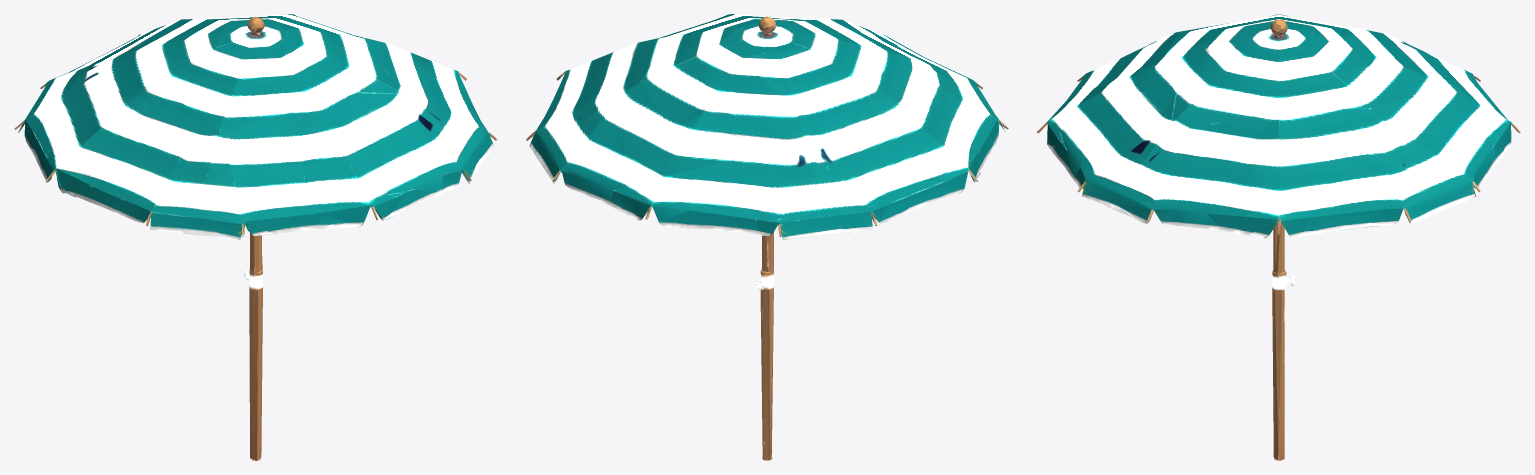
The model's file is guardasol.glb.
3 views of the same model, side by side, from view 1: azimuth 30°, elevation 25°; view 2: azimuth 150°, elevation 25°; view 3: azimuth 270°, elevation 25° (orthographic).
Visible parts, largest first — view 1: Mesh_0; view 2: Mesh_0; view 3: Mesh_0.
Boxes of the visible parts, x1,y1,x2,y2 form: Mesh_0: (14,14,497,460); Mesh_0: (526,14,1008,460); Mesh_0: (1037,14,1520,460).
Size of the model in its own units: 1.9 by 1.9 by 1.9.
Materials: 1 (1 with a texture image).
